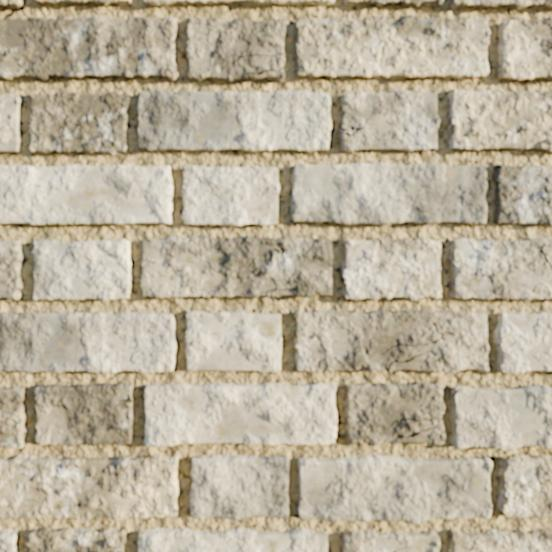brick: (298, 455, 491, 523), (293, 15, 489, 78), (144, 383, 336, 446), (291, 163, 486, 225), (295, 311, 488, 372), (137, 91, 330, 152), (140, 236, 331, 297), (0, 454, 178, 519), (0, 15, 177, 80), (0, 312, 175, 372), (0, 165, 172, 223), (451, 385, 551, 449), (190, 455, 288, 519), (448, 90, 551, 150), (187, 18, 285, 81), (346, 382, 444, 445), (450, 238, 551, 299), (28, 92, 128, 153), (338, 91, 438, 152), (35, 383, 132, 445), (342, 239, 440, 299), (186, 310, 280, 371), (33, 240, 130, 299), (183, 166, 278, 225), (139, 529, 326, 551), (497, 454, 551, 519), (493, 165, 551, 225), (494, 312, 551, 372), (497, 17, 551, 80), (27, 528, 125, 551), (449, 530, 551, 551), (343, 530, 439, 551), (0, 386, 26, 447), (0, 241, 24, 298), (0, 95, 21, 152), (144, 0, 333, 5), (451, 0, 551, 8), (346, 0, 442, 6), (35, 0, 130, 5), (0, 530, 16, 551), (0, 0, 24, 7), (451, 387, 457, 392)
crack: (386, 413, 443, 441), (339, 111, 374, 139), (231, 51, 284, 64), (239, 66, 283, 80), (251, 287, 298, 298), (0, 2, 25, 19), (535, 245, 551, 270), (121, 394, 132, 409), (393, 545, 409, 551), (114, 439, 130, 444), (136, 104, 145, 112), (452, 387, 460, 396), (479, 47, 486, 51), (32, 244, 36, 250)
